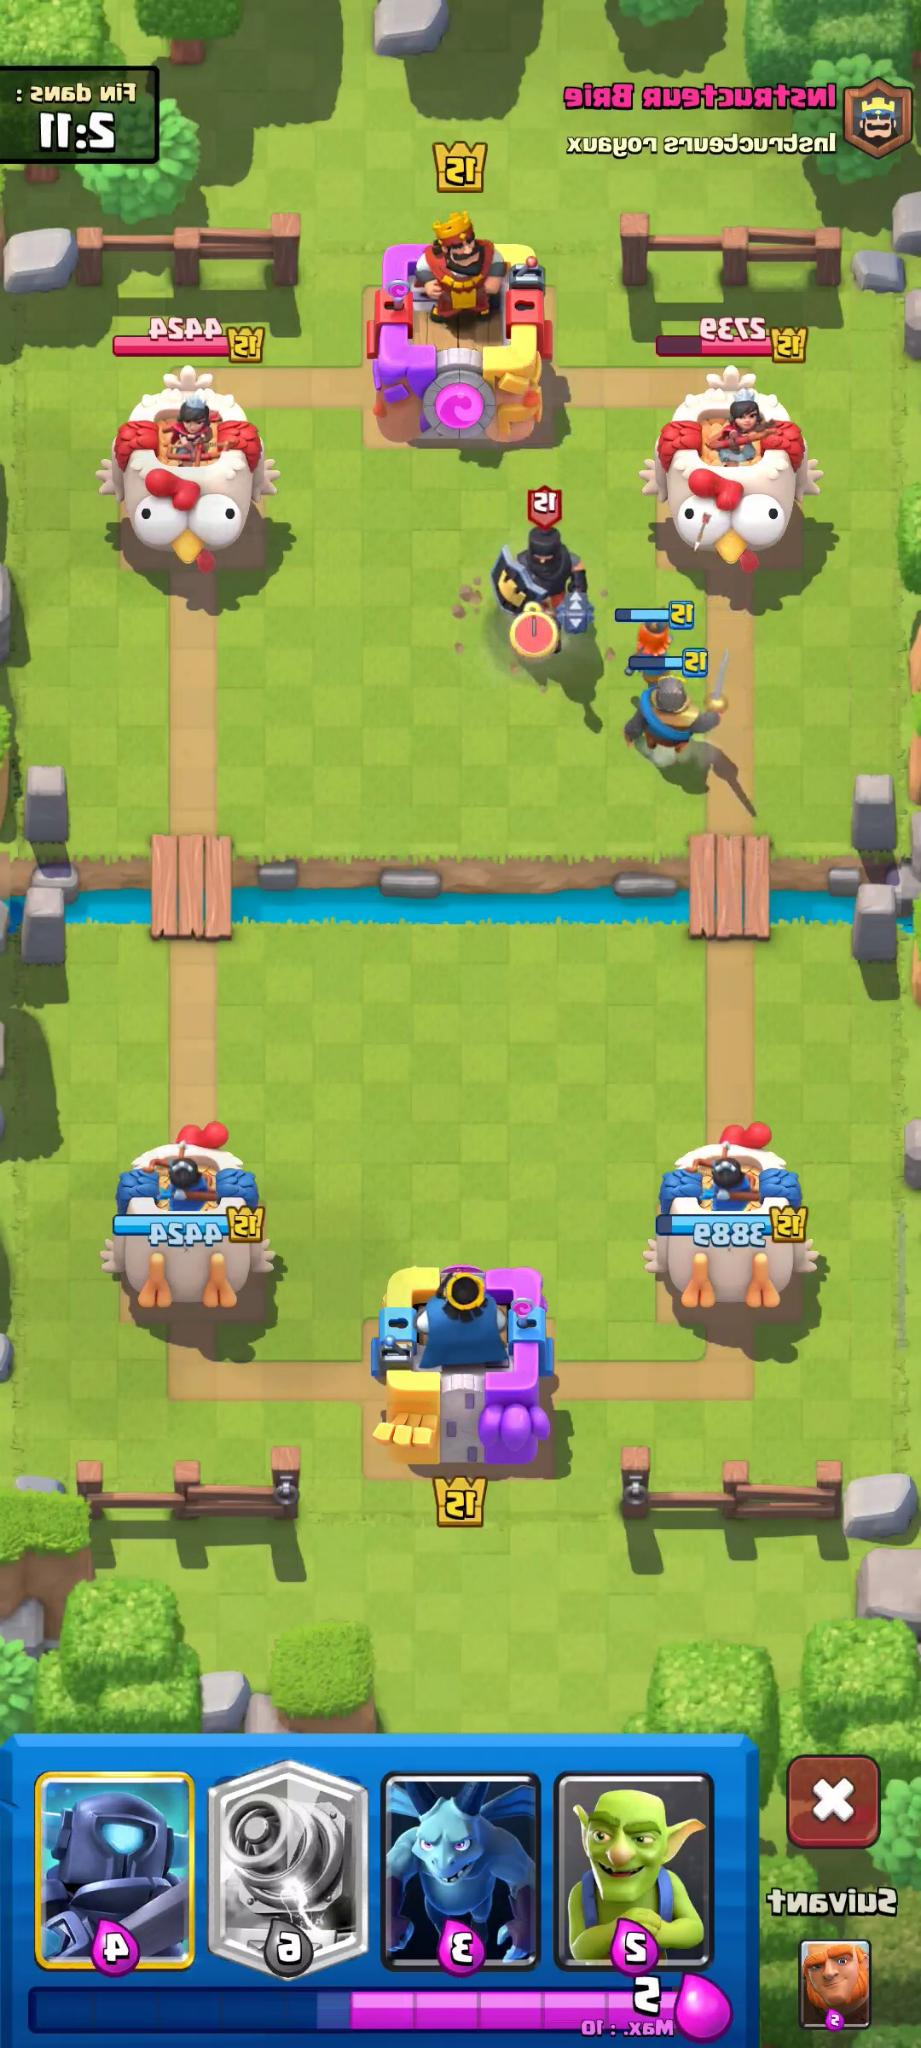chevalier: (614, 667, 726, 778)
valkyrie: (600, 554, 719, 690)
